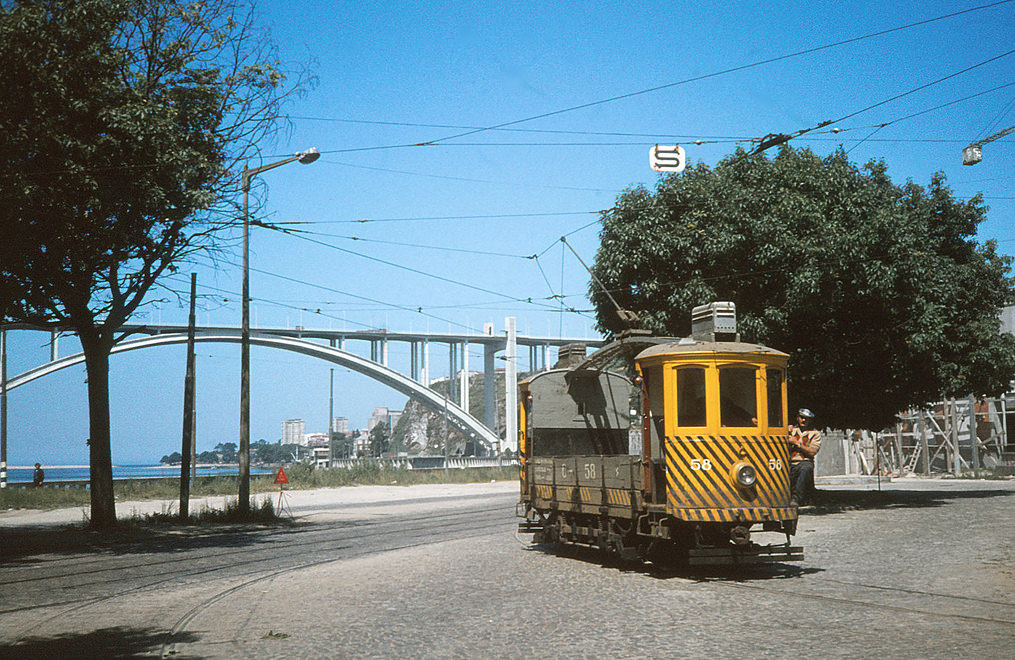arrabida: (0, 318, 609, 459)
